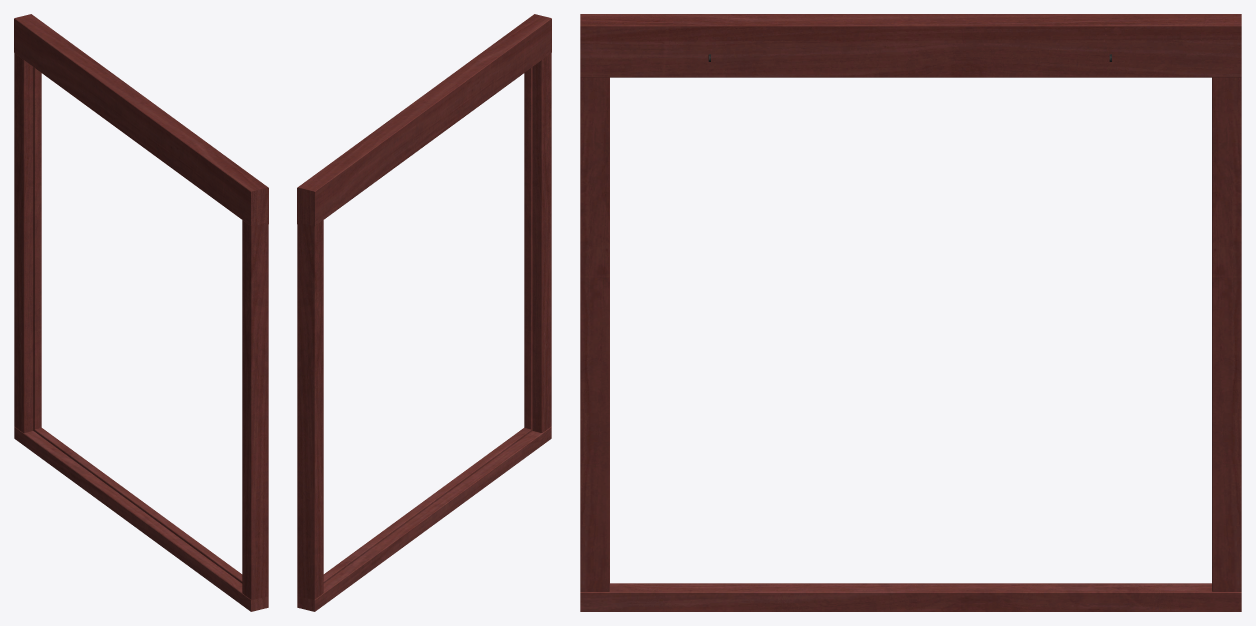
File: SM_CGCS_DoorframeA.fbx
3 renders of one model, left to right at view 1: azimuth 30°, elevation 25°; view 2: azimuth 150°, elevation 25°; view 3: azimuth 270°, elevation 25°, orthographic. The views are drawn at different scales.
Visible parts, largest first — view 1: SM_CGCS_DoorframeA; view 2: SM_CGCS_DoorframeA; view 3: SM_CGCS_DoorframeA.
Boxes of the visible parts, x1,y1,x2,y2 form: SM_CGCS_DoorframeA: (14,14,268,611); SM_CGCS_DoorframeA: (297,14,551,611); SM_CGCS_DoorframeA: (580,14,1241,611).
Size of the model in its own units: 14.69 by 234 by 229.
Materials: 2 (2 with a texture image).
